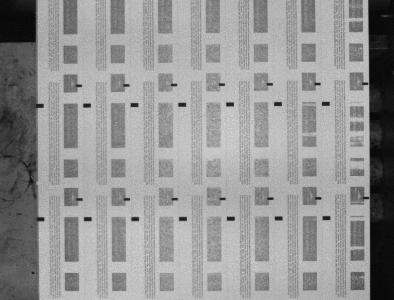backgroundclutter: (31, 271, 35, 274)
qblock: (179, 216, 187, 221), (83, 103, 91, 108), (36, 103, 44, 108), (322, 101, 330, 106), (179, 102, 187, 107), (36, 217, 45, 221), (131, 217, 140, 221), (130, 103, 139, 107), (323, 216, 331, 220), (227, 216, 235, 220), (275, 216, 283, 220), (84, 217, 92, 221), (226, 102, 234, 106), (275, 102, 282, 106)
smallqblock: (124, 197, 130, 201), (267, 82, 273, 86), (315, 197, 322, 200), (171, 83, 178, 86), (219, 83, 226, 86), (77, 198, 83, 201), (172, 198, 178, 201), (220, 197, 226, 200), (268, 197, 274, 200), (124, 84, 130, 87), (76, 84, 82, 87), (364, 196, 370, 199), (315, 82, 321, 85), (363, 82, 369, 85)
